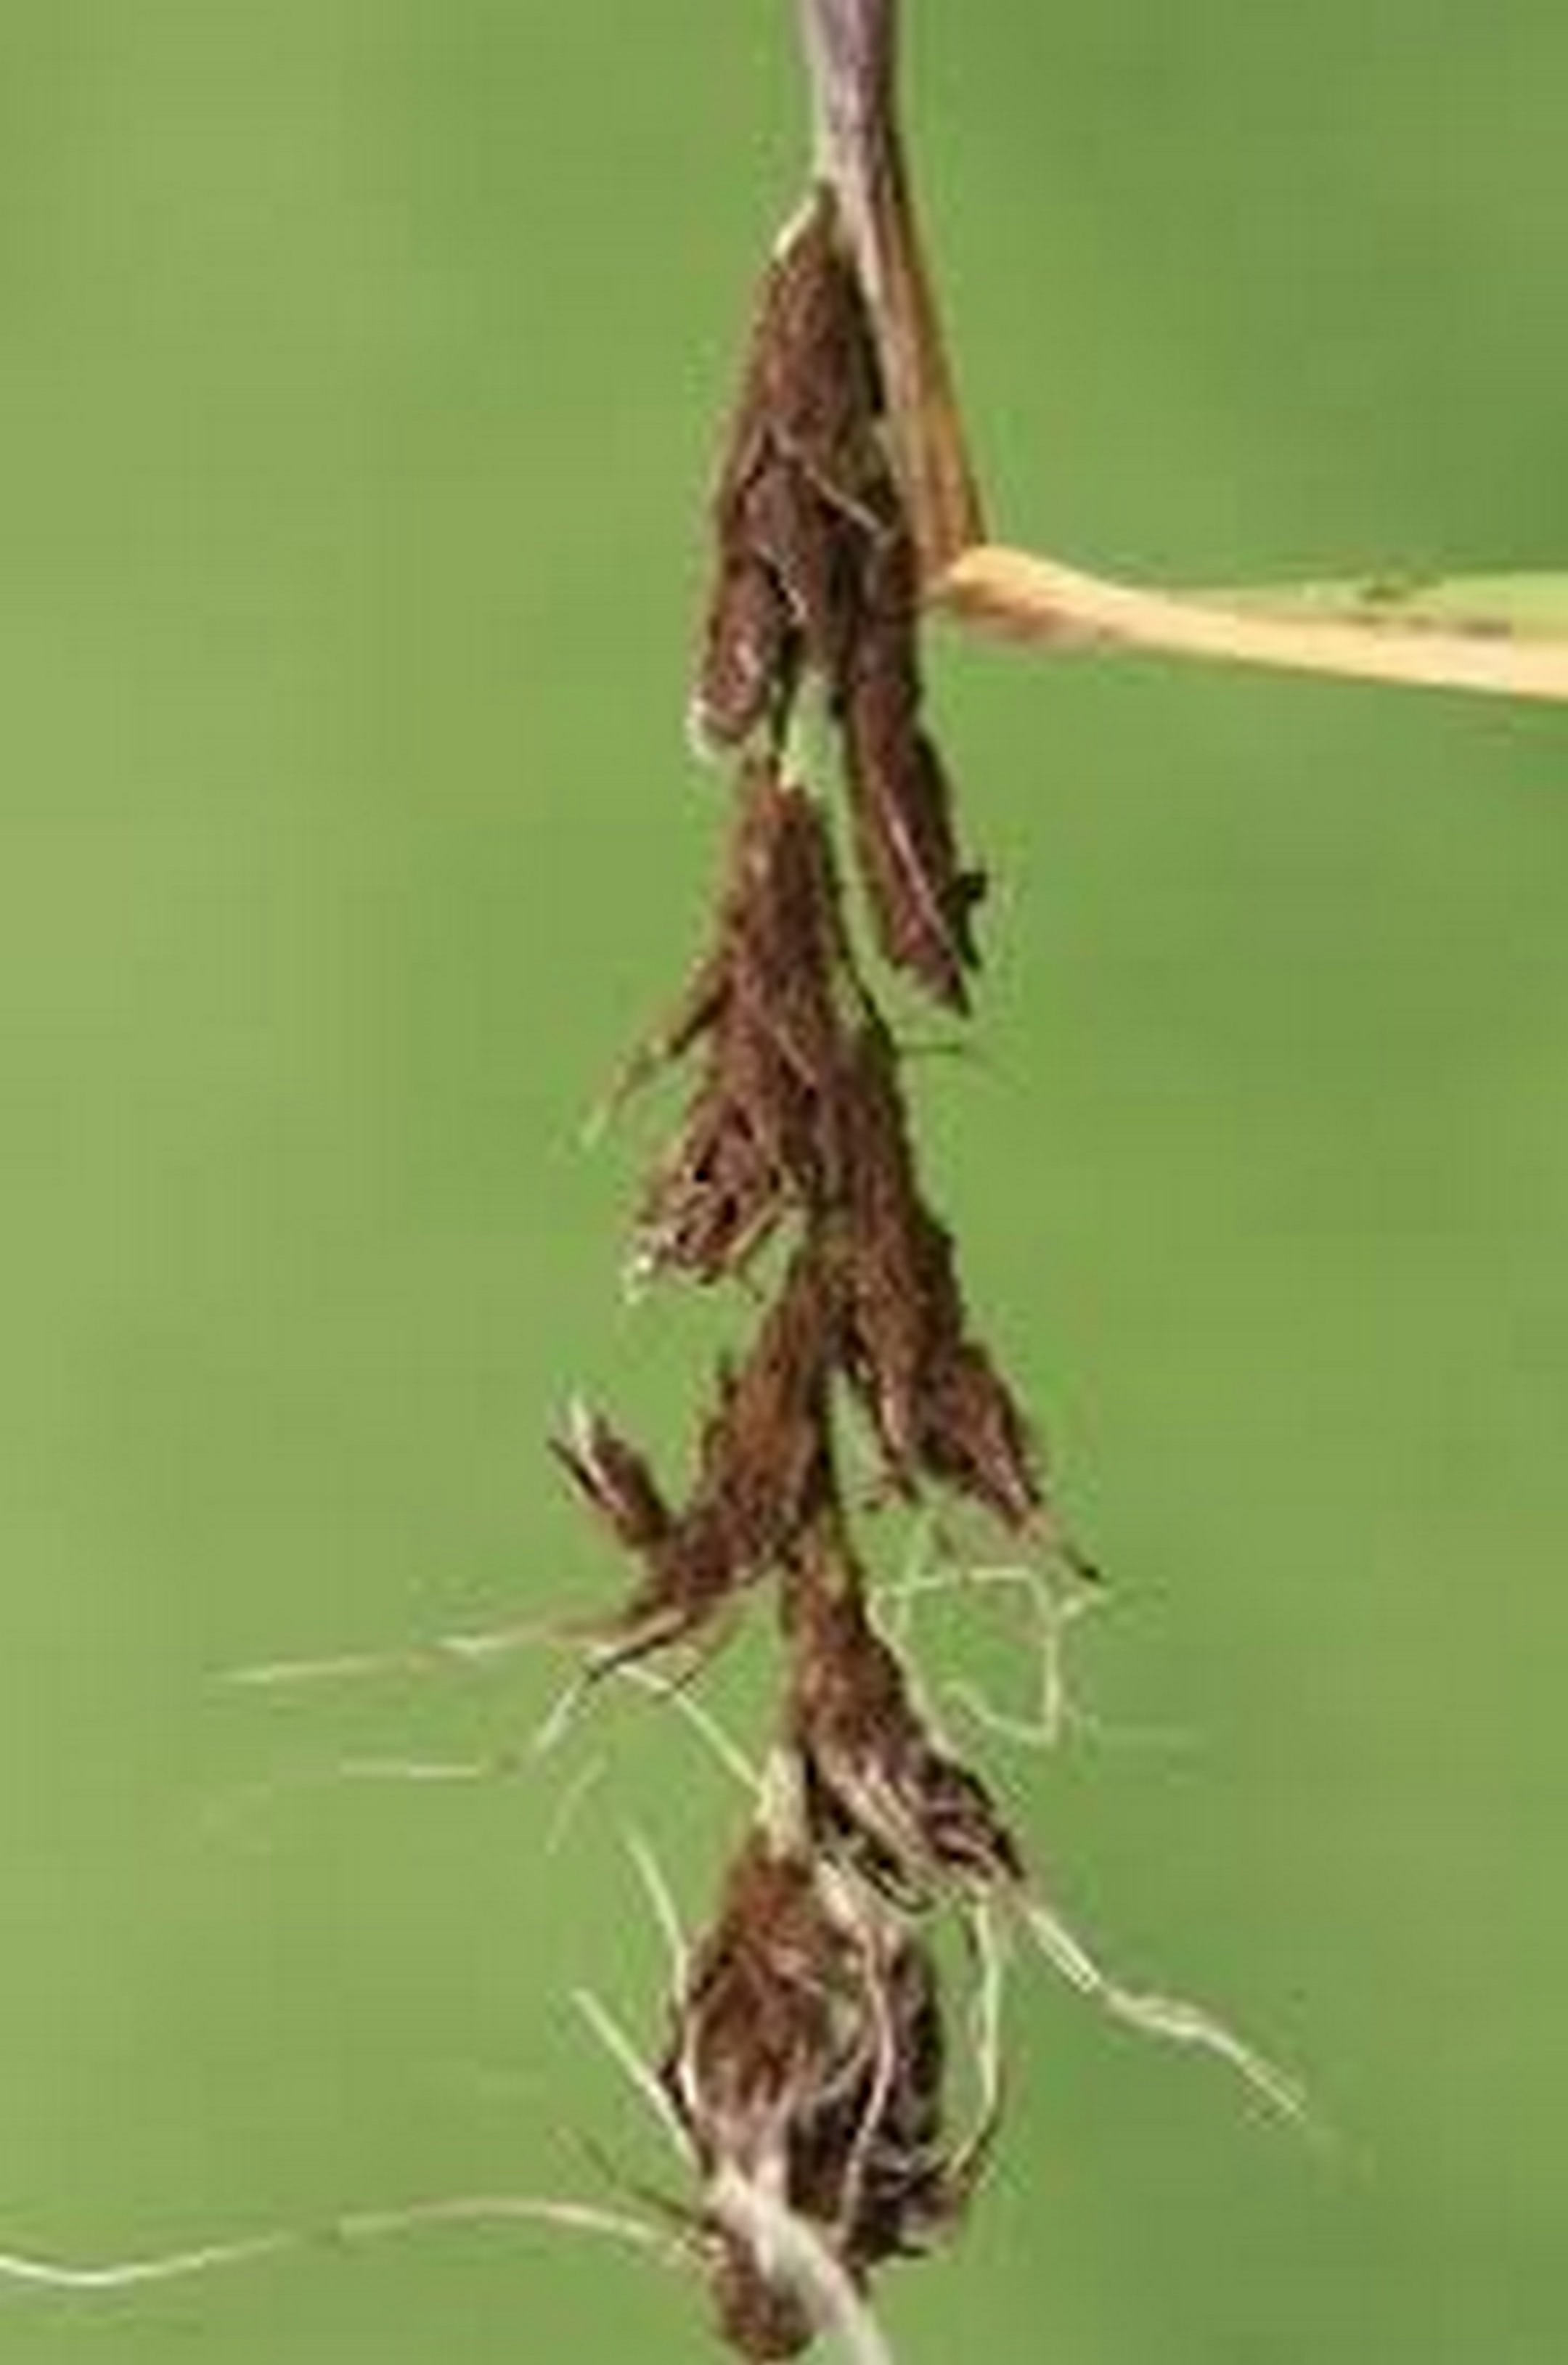Wheat Loose Smut: (611, 175, 1095, 2313)
